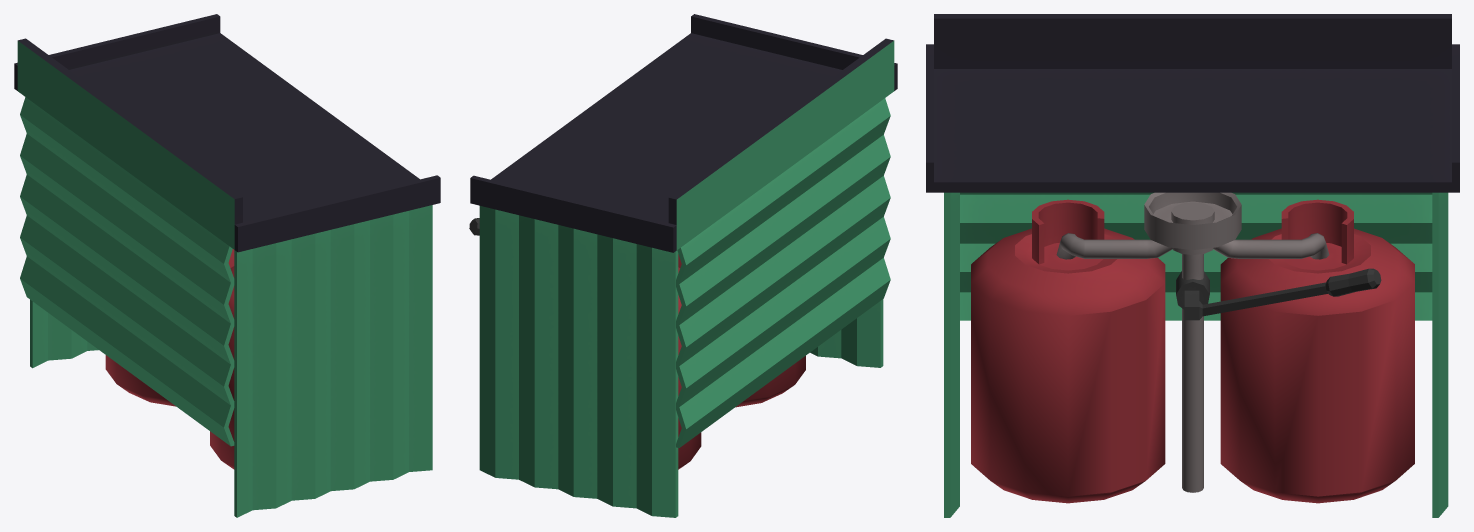
The model's file is grill.FBX.
3 renders of one model, left to right at view 1: azimuth 30°, elevation 25°; view 2: azimuth 150°, elevation 25°; view 3: azimuth 270°, elevation 25°, orthographic. The views are drawn at different scales.
Parts seen in each view (by area): view 1: handle_low; view 2: handle_low; view 3: handle_low.
Boxes of the visible parts, box(x1,y1,x2,y2) form: handle_low: box(14, 14, 440, 517); handle_low: box(469, 14, 897, 517); handle_low: box(926, 14, 1459, 517).
Bounding box in the file's own units: 2.12 × 2.71 × 3.37.
Materials: 1 (1 with a texture image).
